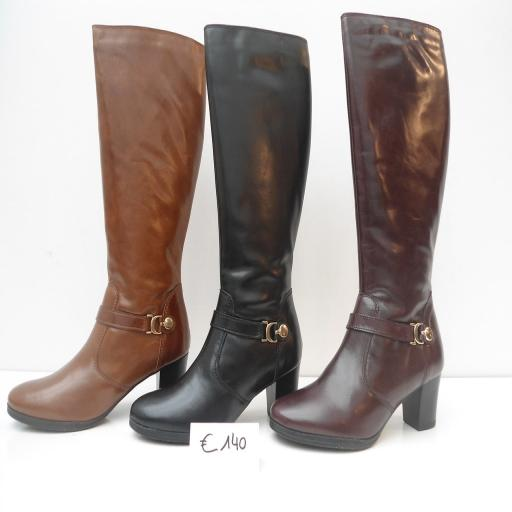boots: (8, 26, 206, 431), (270, 14, 450, 449), (130, 25, 311, 443)
